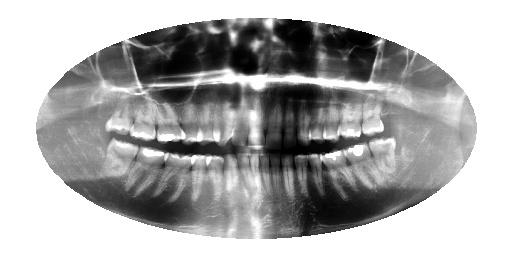i10healthy: (234, 148, 253, 204)
i11healthy: (219, 149, 241, 198)
i12healthy: (204, 148, 225, 201)
i13healthy: (188, 148, 208, 206)
i14healthy: (150, 147, 197, 209)
i15healthy: (122, 140, 171, 208)
i16healthy: (97, 133, 143, 189)
i1healthy: (366, 132, 402, 187)
i2healthy: (341, 140, 386, 191)
i3healthy: (317, 144, 361, 201)
i4healthy: (305, 151, 328, 199)
i5healthy: (291, 152, 312, 202)
i6healthy: (279, 149, 300, 202)
i7decay: (266, 148, 284, 204)
i8decay: (257, 146, 273, 205)
i9healthy: (247, 148, 264, 200)
u10chipped: (228, 91, 251, 151)
u11chipped: (210, 94, 238, 151)
u12healthy: (193, 96, 225, 150)
u13healthy: (177, 91, 208, 153)
u14healthy: (148, 92, 190, 151)
u15healthy: (128, 92, 159, 145)
u16healthy: (101, 92, 137, 140)
u2healthy: (359, 91, 387, 140)
u3healthy: (335, 90, 365, 145)
u4healthy: (320, 89, 342, 145)
u5healthy: (305, 95, 328, 146)
u6healthy: (293, 96, 315, 147)
u7decay: (277, 96, 301, 148)
u8decay: (260, 100, 286, 150)
u9healthy: (244, 95, 267, 152)
